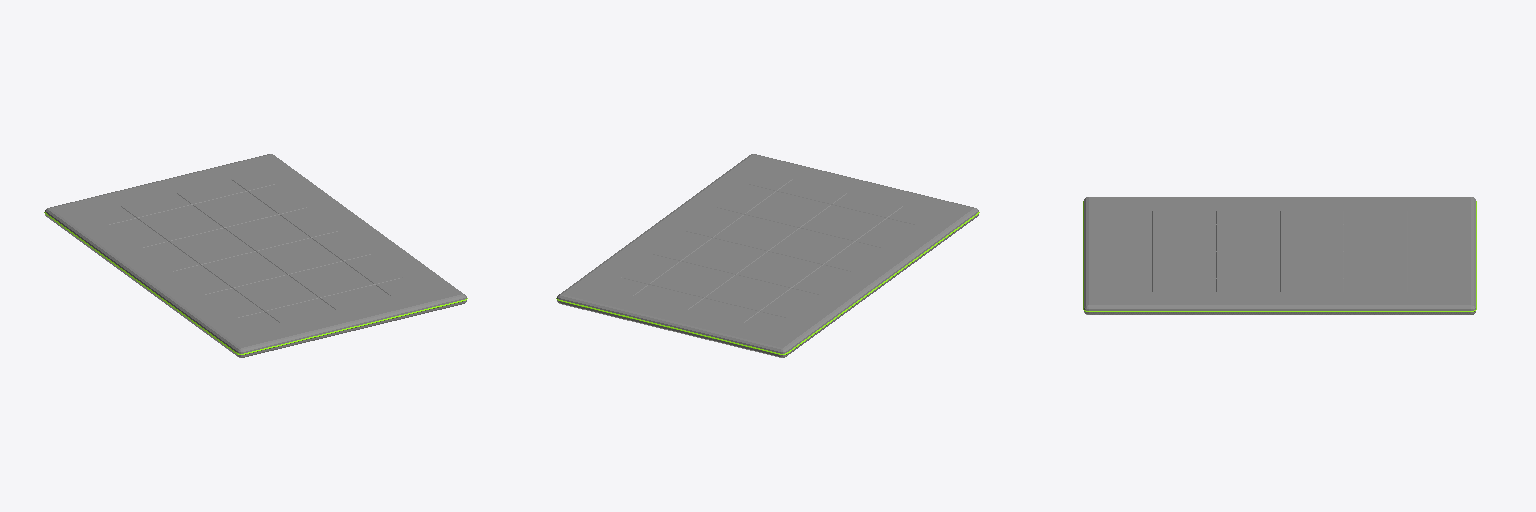
The picture shows the model from 3 angles: view 1: azimuth 30°, elevation 25°; view 2: azimuth 150°, elevation 25°; view 3: azimuth 270°, elevation 25°; orthographic projection.
Parts seen in each view (by area): view 1: light_green; view 2: light_green; view 3: light_green.
Boxes of the visible parts, x1=… form: light_green: x1=44, y1=154, x2=467, y2=357; light_green: x1=556, y1=154, x2=979, y2=357; light_green: x1=1083, y1=197, x2=1476, y2=314.
Size of the model in its own units: 3.67 by 0.1461 by 5.42.
3 materials, 1 textured.